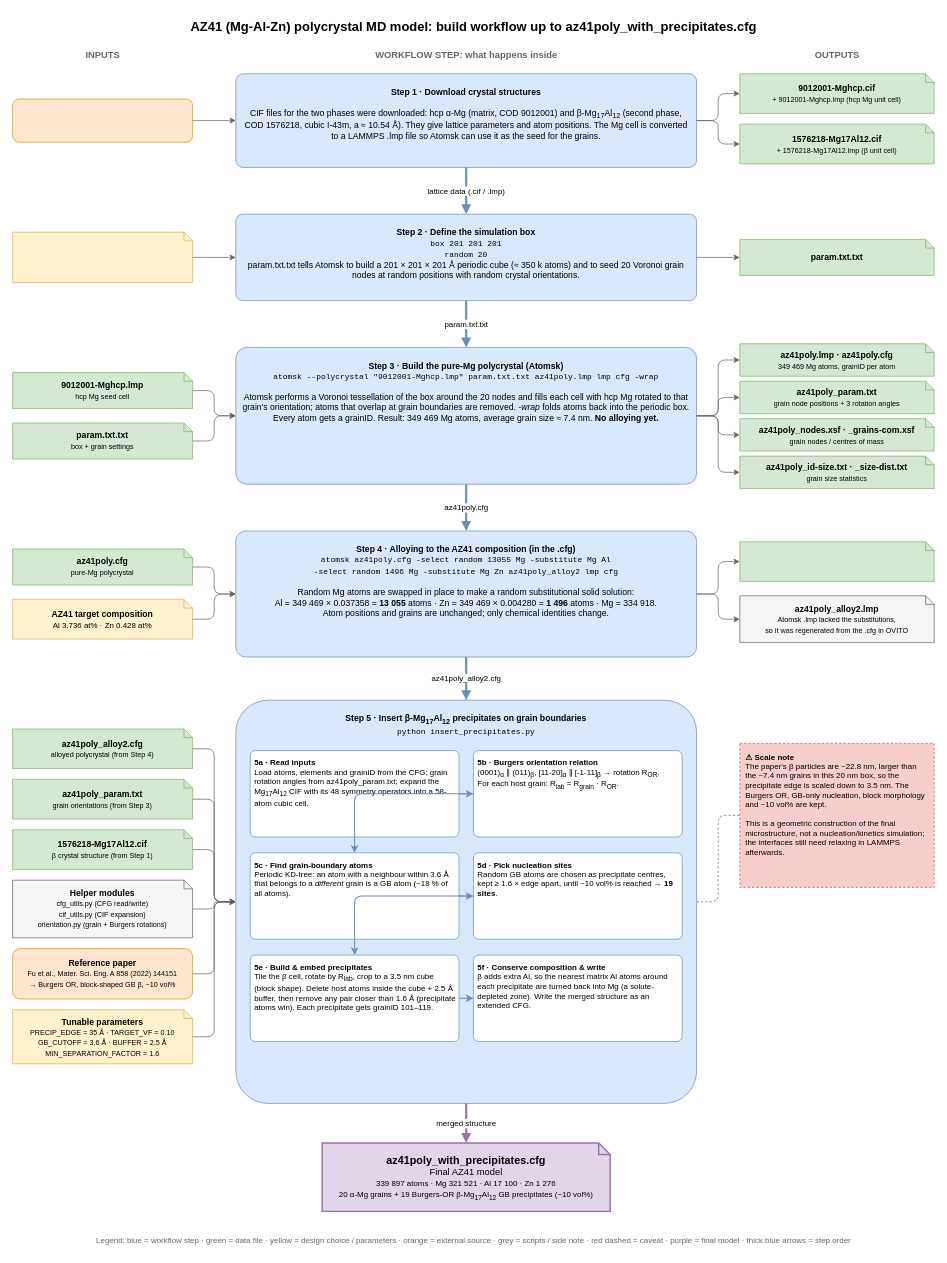
Image size: 947x1263. Some labels were removed from this diagram. The shapes that lost their labels are listed below. From the top down, each one's box as (x1, y1, x2, y2) in pixels, then its label:
(12, 98, 193, 142): Online crystal database Crystallography Open Database (CIF)
(12, 231, 193, 283): Design choices 201 Å cubic box · 20 grains target ≈ 350 000 atoms
(739, 541, 934, 581): az41poly_alloy2.cfg Mg 334 918 · Al 13 055 · Zn 1 496
